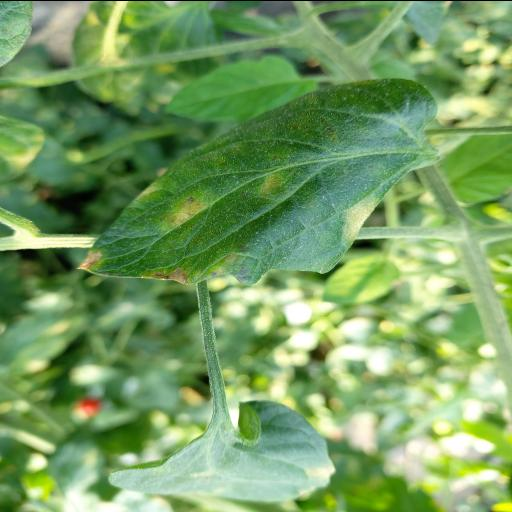Leaf Mold: (76, 77, 438, 285)
